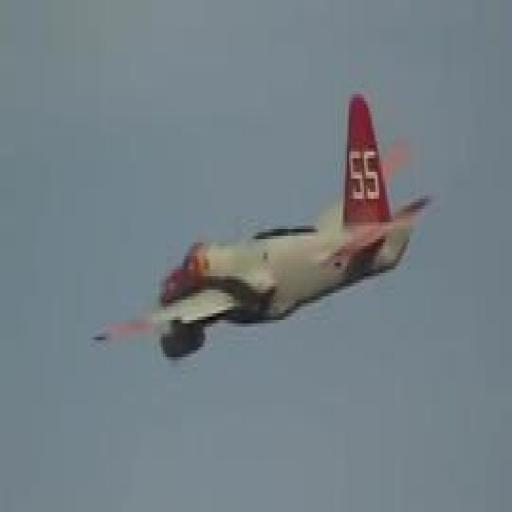aircraft: (93, 92, 438, 360)
